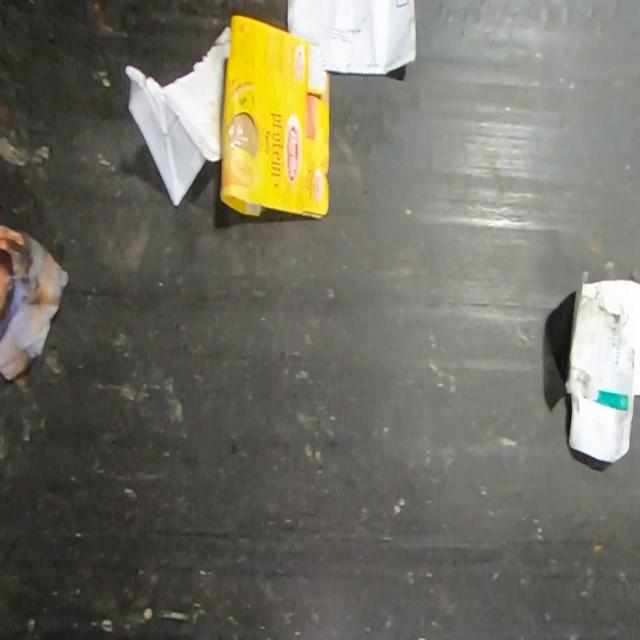cardboard: (218, 12, 331, 220)
